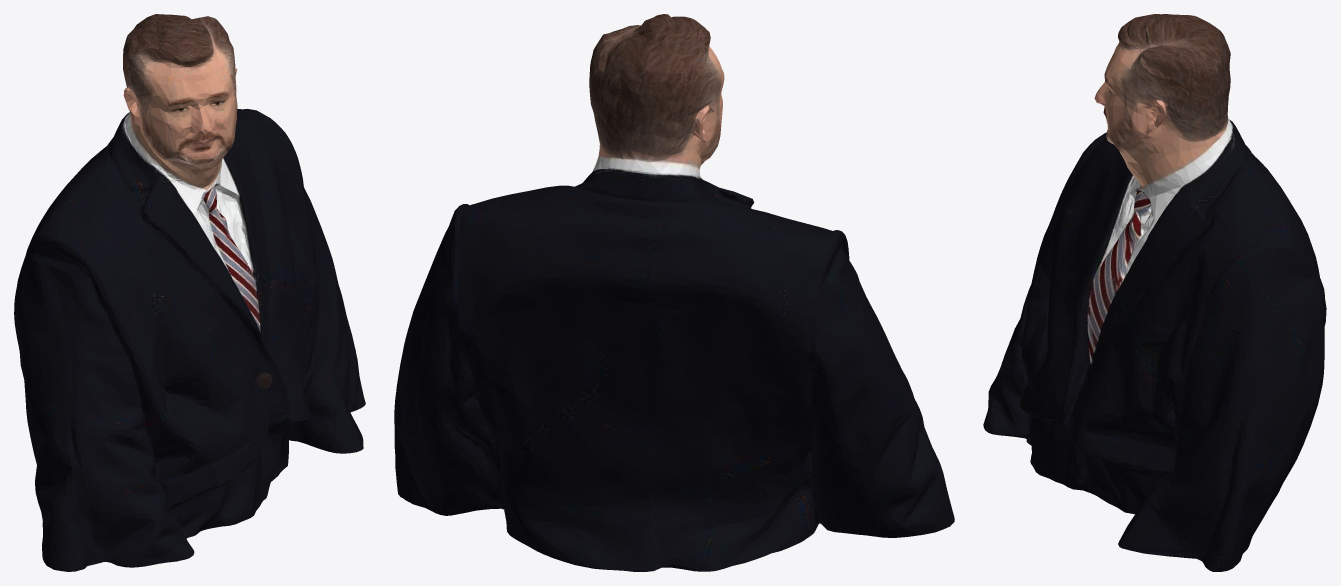
Rendered from Ted_Cruz_optimized_under_2MB.glb.
3 renders of one model, left to right at view 1: azimuth 30°, elevation 25°; view 2: azimuth 150°, elevation 25°; view 3: azimuth 270°, elevation 25°, orthographic. The views are drawn at different scales.
Visible parts, largest first — view 1: optimized_face; view 2: optimized_face; view 3: optimized_face.
Boxes of the visible parts, x1,y1,x2,y2 form: optimized_face: [14, 14, 365, 571]; optimized_face: [394, 14, 954, 571]; optimized_face: [983, 14, 1326, 571].
Size of the model in its own units: 1.78 by 1.9 by 1.31.
Materials: 1 (1 with a texture image).
